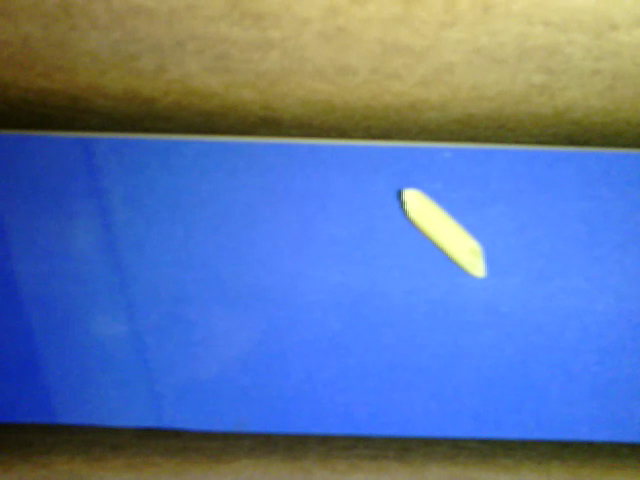penne: (402, 186, 486, 278)
